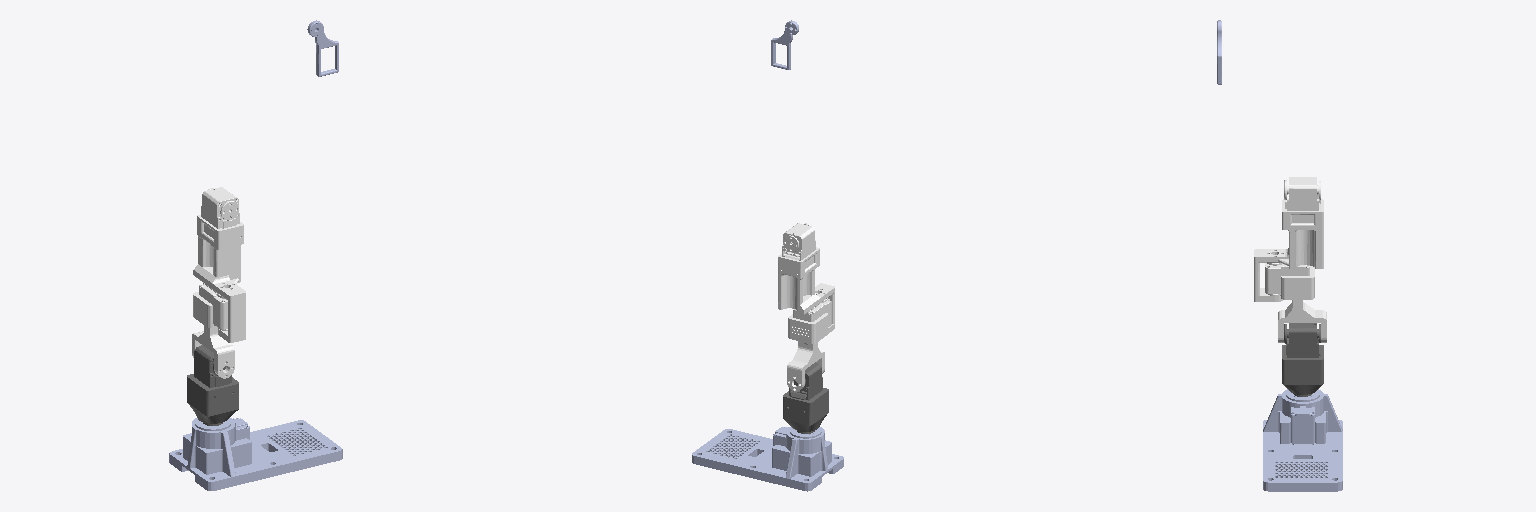
URDF robot description (force_gello_urdf_nofix):
<?xml version="1.0" encoding="utf-8"?>
<!-- This URDF was automatically created by SolidWorks to URDF Exporter! Originally created by Stephen Brawner (brawner@gmail.com) 
     Commit Version: 1.6.0-4-g7f85cfe  Build Version: 1.6.7995.38578
     For more information, please see http://wiki.ros.org/sw_urdf_exporter -->
<robot
  name="force_gello_urdf_nofix">
  <link name="world"/>
  <joint name="joint0" type="fixed">
    <origin rpy="0 0 0" xyz="0 0 0" />
    <parent link="world" />
    <child link="base_link" />
  </joint>
  <link
    name="base_link">

    <inertial>
      <origin
        xyz="0.0292708927856977 0.000110101592261216 0.0146641810009358"
        rpy="0 0 0" />
      <mass
        value="0.155624257151634" />
      <inertia
        ixx="9.50944899374718E-05"
        ixy="-1.03302253173838E-06"
        ixz="3.37628039071992E-05"
        iyy="0.000276813912370141"
        iyz="1.27406047449007E-07"
        izz="0.000330590628154763" />
    </inertial>
    <visual>
      <origin
        xyz="0 0 0"
        rpy="0 0 0" />
      <geometry>
        <mesh
          filename="package://force_gello_urdf_nofix/meshes/base_link.STL" />
      </geometry>
      <material
        name="">
        <color
          rgba="0.792156862745098 0.819607843137255 0.933333333333333 1" />
      </material>
    </visual>
    <collision>
      <origin
        xyz="0 0 0"
        rpy="0 0 0" />
      <geometry>
        <mesh
          filename="package://force_gello_urdf_nofix/meshes/base_link.STL" />
      </geometry>
    </collision>
  </link>
  <link
    name="link1">
    <inertial>
      <origin
        xyz="0.000418926912689872 0.000127499537420548 0.0314373313795414"
        rpy="0 0 0" />
      <mass
        value="0.0536882050149654" />
      <inertia
        ixx="1.21534242446449E-05"
        ixy="-5.18937544047686E-09"
        ixz="-6.73829374690285E-08"
        iyy="1.33235274070961E-05"
        iyz="7.18674543565742E-07"
        izz="1.16864645710259E-05" />
    </inertial>
    <visual>
      <origin
        xyz="0 0 0"
        rpy="0 0 0" />
      <geometry>
        <mesh
          filename="package://force_gello_urdf_nofix/meshes/link1.STL" />
      </geometry>
      <material
        name="">
        <color
          rgba="0.501960784313725 0.501960784313725 0.501960784313725 0.25" />
      </material>
    </visual>
    <collision>
      <origin
        xyz="0 0 0"
        rpy="0 0 0" />
      <geometry>
        <mesh
          filename="package://force_gello_urdf_nofix/meshes/link1.STL" />
      </geometry>
    </collision>
  </link>
  <joint
    name="join1"
    type="continuous">
    <origin
      xyz="0 0 0.0501"
      rpy="0 0 -1.57079632679" />
    <parent
      link="base_link" />
    <child
      link="link1" />
    <axis
      xyz="0 0 1" />
  </joint>
  <link
    name="link2">
    <inertial>
      <origin
        xyz="-0.0439457989518474 -9.43042243768893E-06 -0.0188291293745679"
        rpy="0 0 0" />
      <mass
        value="0.0396665268897832" />
      <inertia
        ixx="9.53392116392657E-06"
        ixy="-8.1512863755973E-09"
        ixz="3.40470151382189E-08"
        iyy="1.85640169276299E-05"
        iyz="1.20401469111103E-09"
        izz="1.50699453634312E-05" />
    </inertial>
    <visual>
      <origin
        xyz="0 0 0"
        rpy="0 0 0" />
      <geometry>
        <mesh
          filename="package://force_gello_urdf_nofix/meshes/link2.STL" />
      </geometry>
      <material
        name="">
        <color
          rgba="1 1 1 1" />
      </material>
    </visual>
    <collision>
      <origin
        xyz="0 0 0"
        rpy="0 0 0" />
      <geometry>
        <mesh
          filename="package://force_gello_urdf_nofix/meshes/link2.STL" />
      </geometry>
    </collision>
  </link>
  <joint
    name="joint2"
    type="continuous">
    <origin
      xyz="0.0255 0 0.06786667"
      rpy="0 1.5707963267949 0" />
    <parent
      link="link1" />
    <child
      link="link2" />
    <axis
      xyz="0 0 1" />
  </joint>
  <link
    name="link3">
    <inertial>
      <origin
        xyz="0.00669102211632698 0.0199966031346131 0.0212337590935003"
        rpy="0 0 0" />
      <mass
        value="0.0567675427566435" />
      <inertia
        ixx="5.08317583592883E-05"
        ixy="-2.5686497746654E-06"
        ixz="-3.70676328670273E-06"
        iyy="3.6849978615366E-05"
        iyz="-1.41559753868671E-05"
        izz="2.23806409972635E-05" />
    </inertial>
    <visual>
      <origin
        xyz="0 0 0"
        rpy="0 0 0" />
      <geometry>
        <mesh
          filename="package://force_gello_urdf_nofix/meshes/link3.STL" />
      </geometry>
      <material
        name="">
        <color
          rgba="1 1 1 0.25" />
      </material>
    </visual>
    <collision>
      <origin
        xyz="0 0 0"
        rpy="0 0 0" />
      <geometry>
        <mesh
          filename="package://force_gello_urdf_nofix/meshes/link3.STL" />
      </geometry>
    </collision>
  </link>
  <joint
    name="joint3"
    type="continuous">
    <origin
      xyz="-0.0891650146194216 0 0.00231333000000002"
      rpy="-1.5707963267949 0 1.5707963267949" />
    <parent
      link="link2" />
    <child
      link="link3" />
    <axis
      xyz="0 0 1" />
  </joint>
  <link
    name="link4">
    <inertial>
      <origin
        xyz="-0.00632474711321661 -0.0400529243031038 0.0130602182047975"
        rpy="0 0 0" />
      <mass
        value="0.0292773228148563" />
      <inertia
        ixx="1.76259733047353E-05"
        ixy="-1.41941183719008E-06"
        ixz="-9.15136836854258E-07"
        iyy="8.93371836401099E-06"
        iyz="-4.66467028157006E-06"
        izz="1.32723330093704E-05" />
    </inertial>
    <visual>
      <origin
        xyz="0 0 0"
        rpy="0 0 0" />
      <geometry>
        <mesh
          filename="package://force_gello_urdf_nofix/meshes/link4.STL" />
      </geometry>
      <material
        name="">
        <color
          rgba="1 1 1 0.25" />
      </material>
    </visual>
    <collision>
      <origin
        xyz="0 0 0"
        rpy="0 0 0" />
      <geometry>
        <mesh
          filename="package://force_gello_urdf_nofix/meshes/link4.STL" />
      </geometry>
    </collision>
  </link>
  <joint
    name="joint4"
    type="continuous">
    <origin
      xyz="0.00850666380206562 0.00231334175953646 0.0740349853805785"
      rpy="-1.5707963267949 0 0" />
    <parent
      link="link3" />
    <child
      link="link4" />
    <axis
      xyz="0 0 1" />
  </joint>
  <link
    name="link5">
    <inertial>
      <origin
        xyz="-0.0054436363815863 5.3347787039235E-06 0.0377847628179662"
        rpy="0 0 0" />
      <mass
        value="0.0353756509597667" />
      <inertia
        ixx="2.28273609033877E-05"
        ixy="-7.73386871257935E-10"
        ixz="-1.03029036354636E-06"
        iyy="2.16083406737291E-05"
        iyz="-4.2641402484088E-10"
        izz="6.42579812498216E-06" />
    </inertial>
    <visual>
      <origin
        xyz="0 0 0"
        rpy="0 0 0" />
      <geometry>
        <mesh
          filename="package://force_gello_urdf_nofix/meshes/link5.STL" />
      </geometry>
      <material
        name="">
        <color
          rgba="1 1 1 1" />
      </material>
    </visual>
    <collision>
      <origin
        xyz="0 0 0"
        rpy="0 0 0" />
      <geometry>
        <mesh
          filename="package://force_gello_urdf_nofix/meshes/link5.STL" />
      </geometry>
    </collision>
  </link>
  <joint
    name="joint5"
    type="continuous">
    <origin
      xyz="-0.008506667 -0.0789331801981524 0.021046667"
      rpy="1.5707963267949 1.5707963267949 0" />
    <parent
      link="link4" />
    <child
      link="link5" />
    <axis
      xyz="0 0 1" />
  </joint>
  <link
    name="link6">
    <inertial>
      <origin
        xyz="-0.000350026714014323 0.0401358776386732 0.0063175619582304"
        rpy="0 0 0" />
      <mass
        value="0.0320881139171919" />
      <inertia
        ixx="1.6738222724497E-05"
        ixy="-1.74297171927807E-11"
        ixz="-9.38332922798552E-10"
        iyy="1.14087965772292E-05"
        iyz="-3.76868723863173E-06"
        izz="7.92121950656451E-06" />
    </inertial>
    <visual>
      <origin
        xyz="0 0 0"
        rpy="0 0 0" />
      <geometry>
        <mesh
          filename="package://force_gello_urdf_nofix/meshes/link6.STL" />
      </geometry>
      <material
        name="">
        <color
          rgba="1 1 1 1" />
      </material>
    </visual>
    <collision>
      <origin
        xyz="0 0 0"
        rpy="0 0 0" />
      <geometry>
        <mesh
          filename="package://force_gello_urdf_nofix/meshes/link6.STL" />
      </geometry>
    </collision>
  </link>
  <joint
    name="jonit6"
    type="continuous">
    <origin
      xyz="0.0135466670000058 0 0.0800001198018476"
      rpy="1.5707963267949 0 1.5707963267949" />
    <parent
      link="link5" />
    <child
      link="link6" />
    <axis
      xyz="0 0 1" />
  </joint>
  <link
    name="link7">
    <inertial>
      <origin
        xyz="0.0295336452305045 -0.00825031409497804 0.023343772366503"
        rpy="0 0 0" />
      <mass
        value="0.0323488339418424" />
      <inertia
        ixx="9.80612395853259E-06"
        ixy="-1.78161349720496E-07"
        ixz="-7.77532559867676E-06"
        iyy="4.28765903575996E-05"
        iyz="-4.9210213439285E-07"
        izz="3.57535159355888E-05" />
    </inertial>
    <visual>
      <origin
        xyz="0 0 0"
        rpy="0 0 0" />
      <geometry>
        <mesh
          filename="package://force_gello_urdf_nofix/meshes/link7.STL" />
      </geometry>
      <material
        name="">
        <color
          rgba="1 1 1 1" />
      </material>
    </visual>
    <collision>
      <origin
        xyz="0 0 0"
        rpy="0 0 0" />
      <geometry>
        <mesh
          filename="package://force_gello_urdf_nofix/meshes/link7.STL" />
      </geometry>
    </collision>
  </link>
  <joint
    name="joint7"
    type="continuous">
    <origin
      xyz="0.0180000000000007 0.0469333300000001 0.0437119999999942"
      rpy="-1.5707963267949 0 -1.5707963267949" />
    <parent
      link="link6" />
    <child
      link="link7" />
    <axis
      xyz="0 0 1" />
  </joint>
  <link
    name="link8">
    <inertial>
      <origin
        xyz="0.00832265113748341 -0.0195491190079045 -0.00250000220381602"
        rpy="0 0 0" />
      <mass
        value="0.00312508488228405" />
      <inertia
        ixx="9.08693851376472E-07"
        ixy="2.58901607614985E-07"
        ixz="-1.20682630024149E-13"
        iyy="2.41781537438246E-07"
        iyz="-1.34548903860349E-13"
        izz="1.13791029920368E-06" />
    </inertial>
    <visual>
      <origin
        xyz="0 0 0"
        rpy="0 0 0" />
      <geometry>
        <mesh
          filename="package://force_gello_urdf_nofix/meshes/link8.STL" />
      </geometry>
      <material
        name="">
        <color
          rgba="0.792156862745098 0.819607843137255 0.933333333333333 1" />
      </material>
    </visual>
    <collision>
      <origin
        xyz="0 0 0"
        rpy="0 0 0" />
      <geometry>
        <mesh
          filename="package://force_gello_urdf_nofix/meshes/link8.STL" />
      </geometry>
    </collision>
  </link>
  <joint
    name="joint8"
    type="continuous">
    <origin
      xyz="0 -0.0244999999999999 0.0474999999999993"
      rpy="1.57079632679491 -1.5707963267949 0" />
    <parent
      link="link7" />
    <child
      link="link8" />
    <axis
      xyz="0 0 -1" />
  </joint>

  <link name="flange"/>
  <joint name="link7_to_flange" type="fixed">
      <parent link="link7" />
      <child link="flange" />
      <origin rpy="0 6.28318530718 0" xyz="0.0 0.0 0.03"/>
  </joint>
</robot>

--- What the picture shows (computed from the rendered views, not written in the file) ---
The picture shows the robot from 3 angles, left to right: view 1: azimuth 30°, elevation 25°; view 2: azimuth 150°, elevation 25°; view 3: azimuth 270°, elevation 25°; orthographic projection.
Model force_gello_urdf_nofix with 11 links and 10 joints (8 continuous, 2 fixed), rooted at world, posed all joints at 0.
Visible links, largest first — view 1: base_link, link3, link1, link2, link8; view 2: base_link, link3, link2, link1, link8; view 3: base_link, link3, link1, link2.
Link boxes in pixels (x1=…): base_link: x1=169, y1=418, x2=342, y2=490; link3: x1=193, y1=187, x2=245, y2=342; link1: x1=187, y1=345, x2=238, y2=425; link2: x1=192, y1=283, x2=234, y2=378; link8: x1=307, y1=20, x2=338, y2=76; base_link: x1=692, y1=427, x2=843, y2=491; link3: x1=778, y1=223, x2=834, y2=333; link2: x1=787, y1=298, x2=831, y2=391; link1: x1=783, y1=362, x2=828, y2=433; link8: x1=771, y1=20, x2=798, y2=69; base_link: x1=1263, y1=389, x2=1342, y2=491; link3: x1=1254, y1=177, x2=1323, y2=301; link1: x1=1282, y1=323, x2=1323, y2=396; link2: x1=1265, y1=263, x2=1326, y2=342.
Bounding box of the posed robot: 0.15 × 0.1262 × 0.495 m (x, y, z).
Meshes: 9 distinct files referenced, 5 mesh visuals loaded (5 binary STL); not drawn: 4 (reference not matched to a file when rendering).
